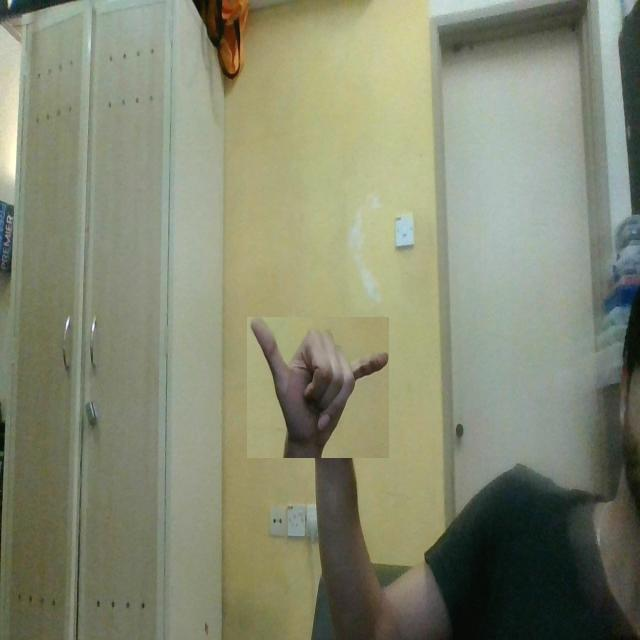shaka: (247, 317, 389, 458)
